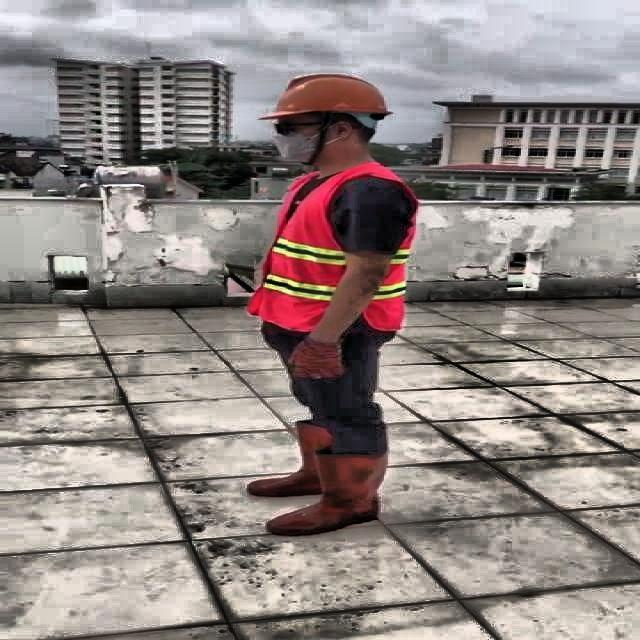safety_helmet: (260, 72, 396, 120)
safety_jacket: (252, 166, 420, 331)
